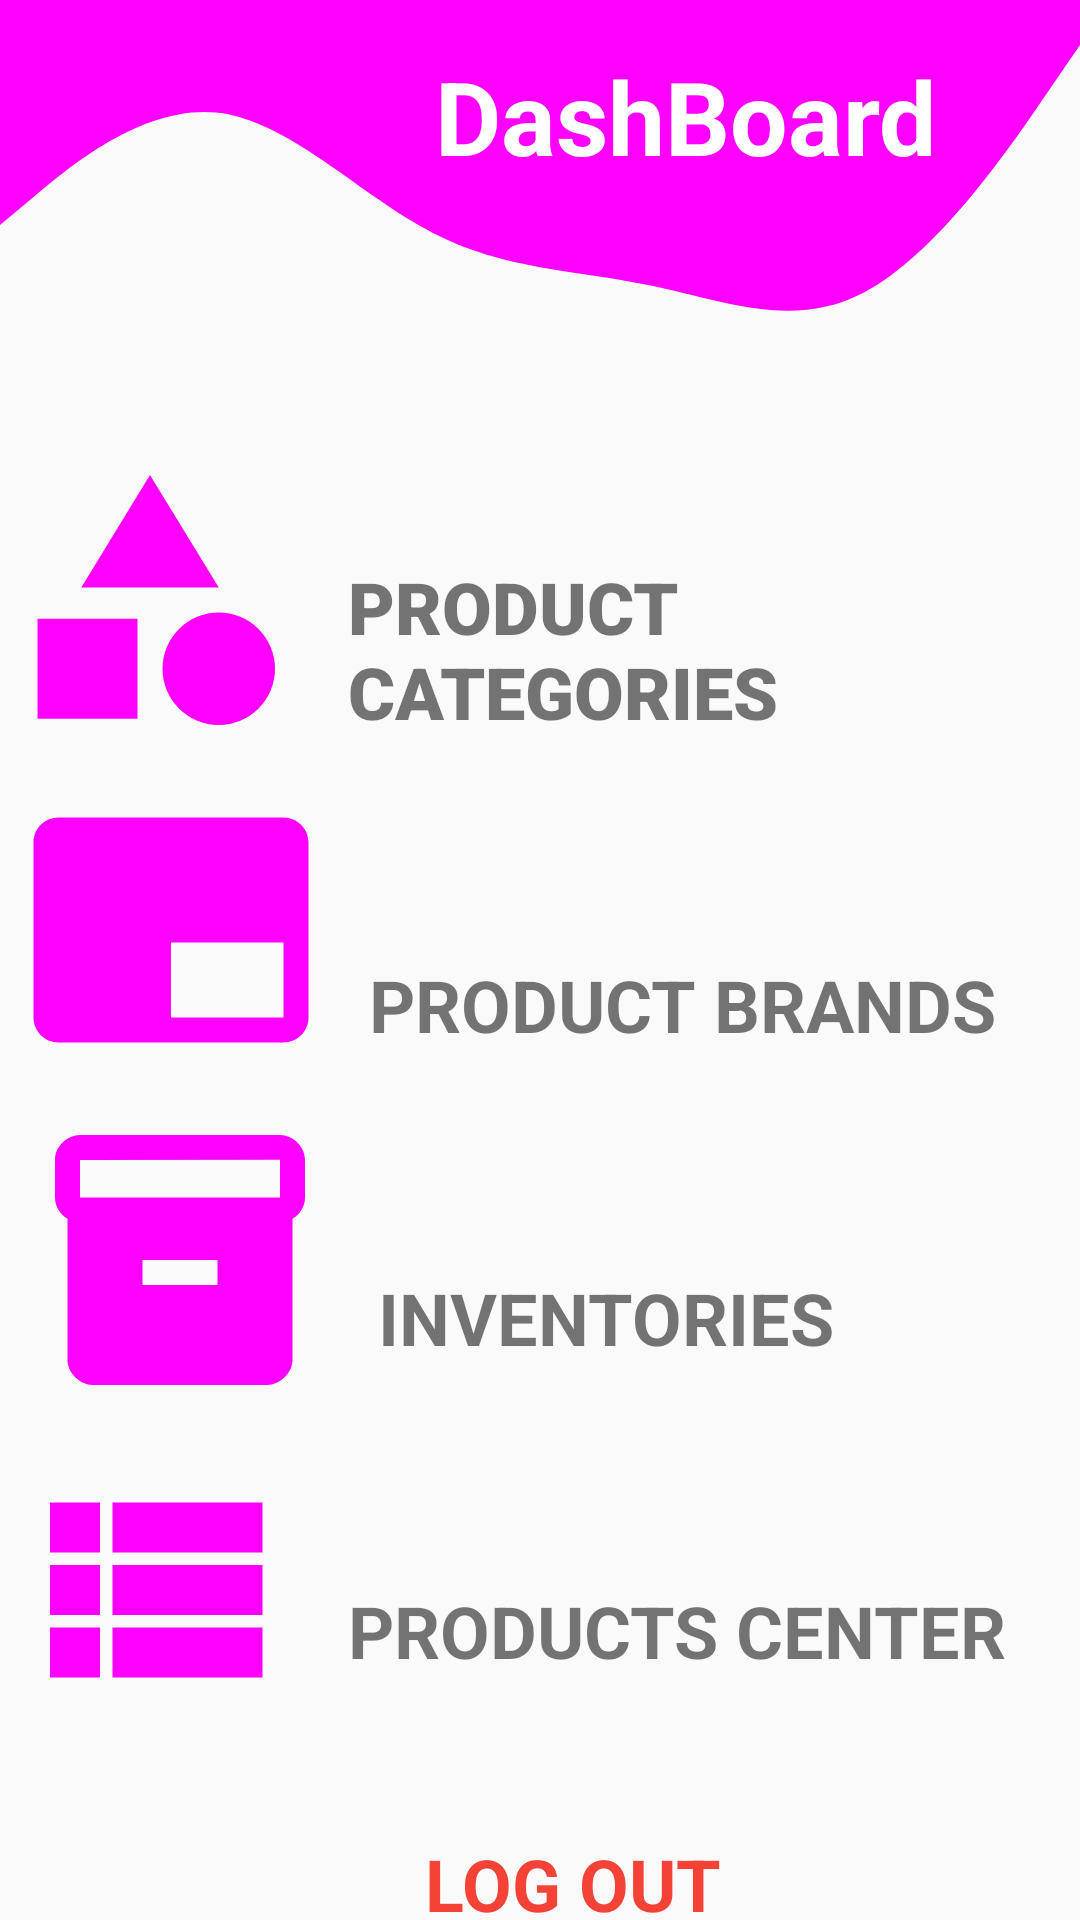

Screen size 1080w x 1920h. Icon name, then its box in pixels as Rect(x1, y1, x2, y2):
brading: Rect(33, 817, 309, 1043)
inventory: Rect(55, 1135, 305, 1385)
productlist: Rect(50, 1502, 263, 1678)
